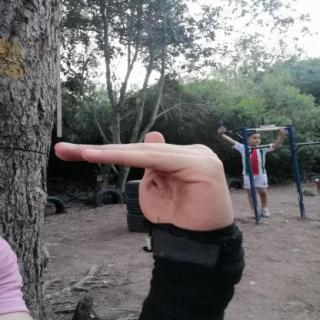KHAA: (42, 122, 254, 250)
